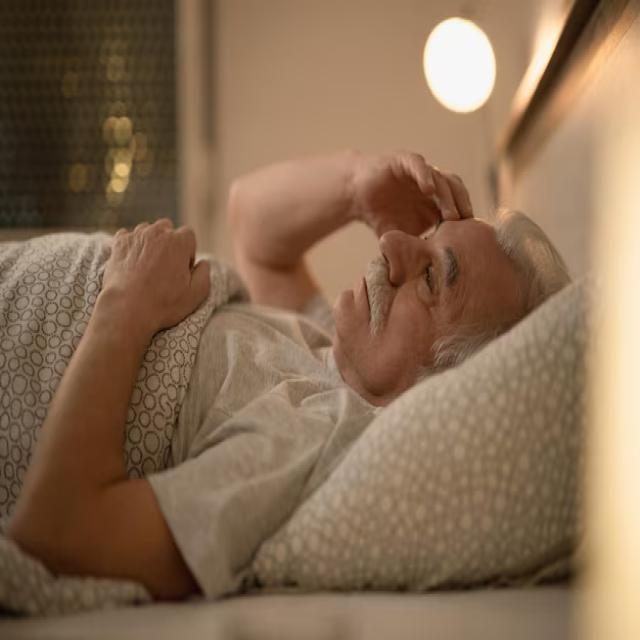idoso deitado: (0, 170, 571, 600)
